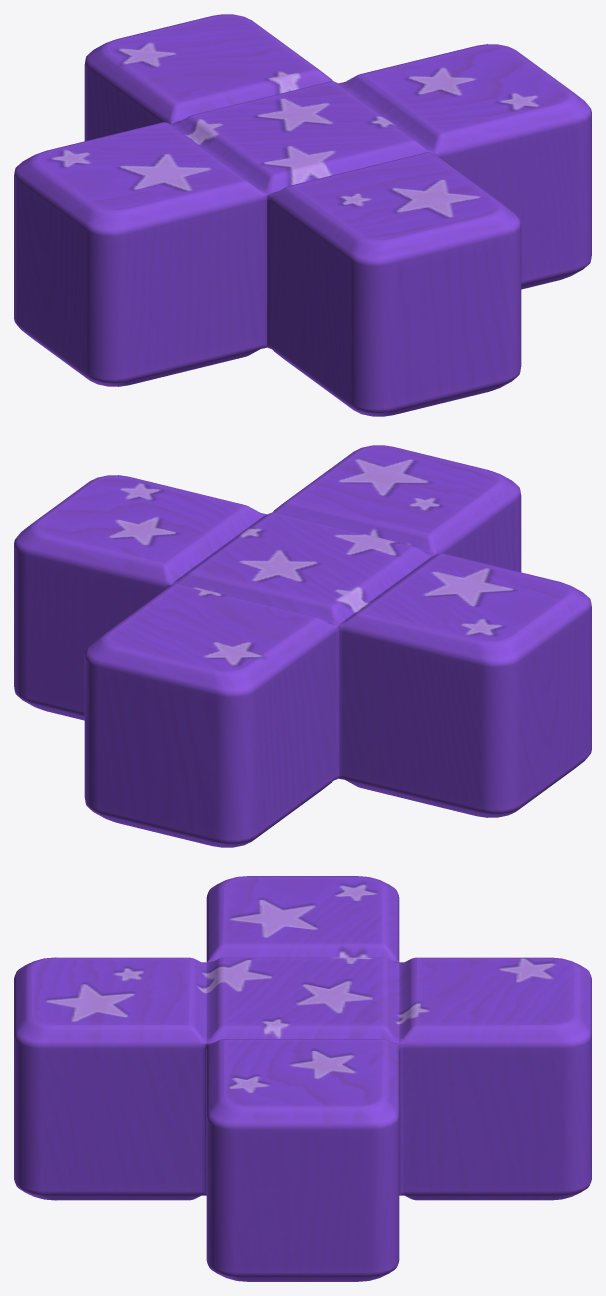
Rendered from Star_Block_03.fbx.
The picture shows the model from 3 angles, top to bottom: view 1: azimuth 30°, elevation 25°; view 2: azimuth 150°, elevation 25°; view 3: azimuth 270°, elevation 25°; orthographic projection.
Parts seen in each view (by area): view 1: Star_Block_03; view 2: Star_Block_03; view 3: Star_Block_03.
Boxes of the visible parts, bbox=[...] form: Star_Block_03: bbox=[14, 14, 591, 416]; Star_Block_03: bbox=[14, 445, 591, 847]; Star_Block_03: bbox=[14, 876, 591, 1281].
Size of the model in its own units: 3 by 1 by 3.
1 material, 1 textured.
